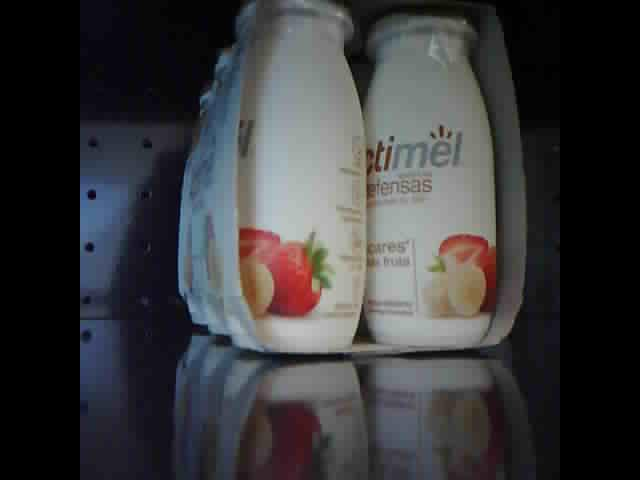actimel: (177, 1, 528, 357)
